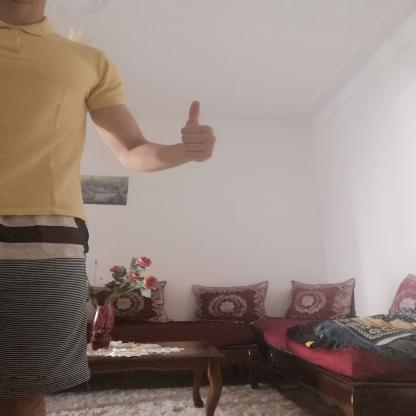ALIF: (170, 93, 224, 169)
